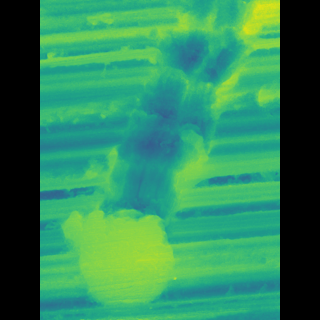Loch: (82, 0, 244, 317)
